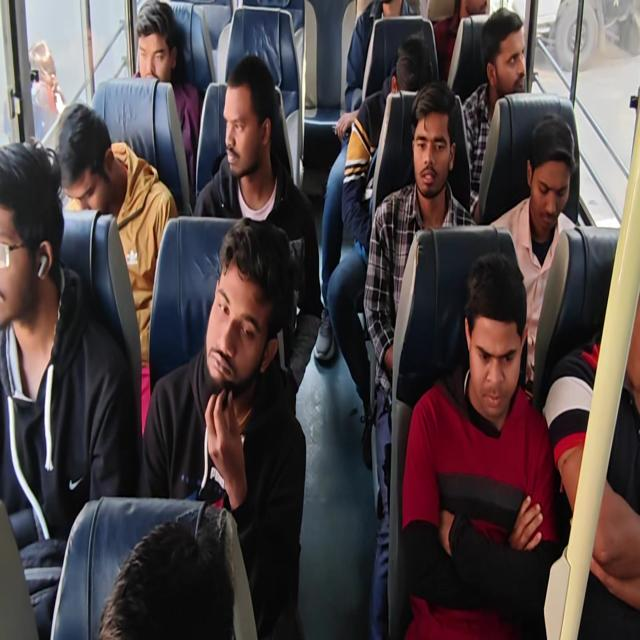person: (1, 1, 638, 638), (141, 216, 307, 638), (0, 137, 140, 637), (363, 80, 477, 637), (400, 250, 560, 638), (326, 36, 433, 466), (193, 54, 322, 394), (55, 102, 178, 436), (542, 286, 640, 632), (488, 112, 578, 396), (97, 518, 235, 639), (462, 7, 526, 220), (131, 0, 201, 191), (431, 0, 489, 82), (28, 39, 66, 140)
